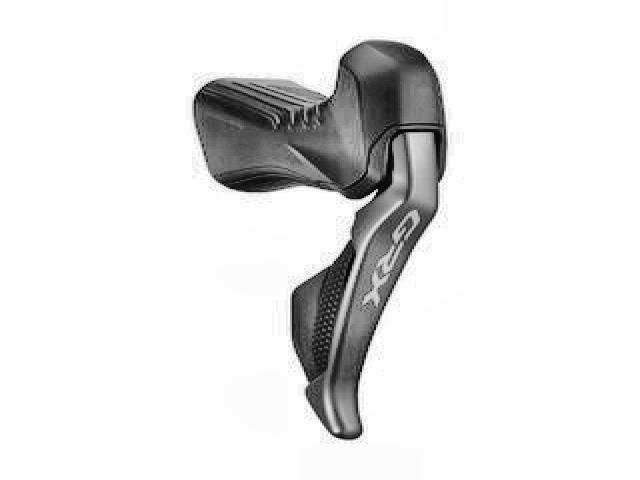sti_shifter: (188, 38, 452, 441)
